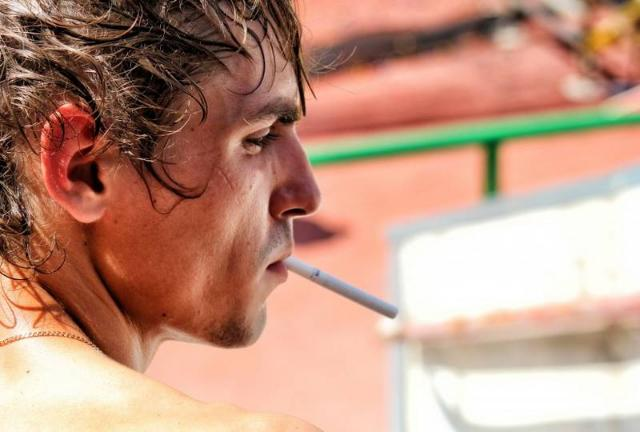Cigarette: (285, 256, 401, 326)
